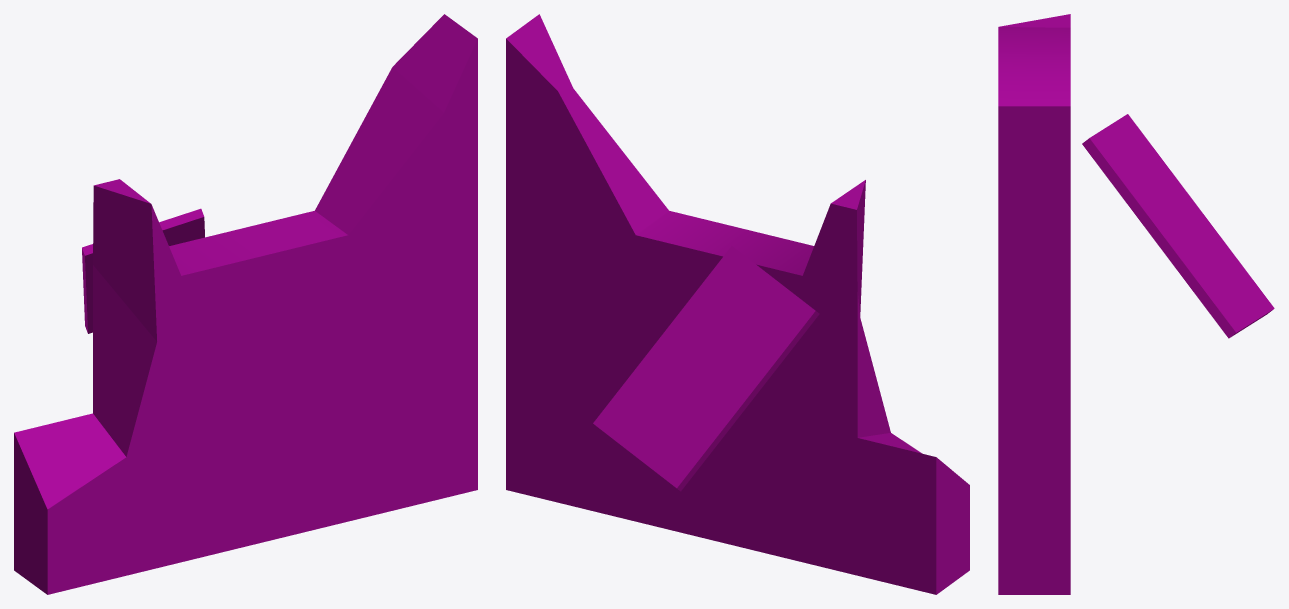
Rendered from Collider_Broken_Wall_Window_002.fbx.
3 views of the same model, side by side, from view 1: azimuth 30°, elevation 25°; view 2: azimuth 150°, elevation 25°; view 3: azimuth 270°, elevation 25° (orthographic). The views are drawn at different scales.
Visible parts, largest first — view 1: Collider_Broken_Wall_Window_002; view 2: Collider_Broken_Wall_Window_002; view 3: Collider_Broken_Wall_Window_002.
Boxes of the visible parts, box(x1,y1,x2,y2) form: Collider_Broken_Wall_Window_002: box(14, 14, 477, 594); Collider_Broken_Wall_Window_002: box(506, 14, 969, 594); Collider_Broken_Wall_Window_002: box(998, 14, 1274, 594).
Size of the model in its own units: 2.98 by 2.99 by 1.53.
